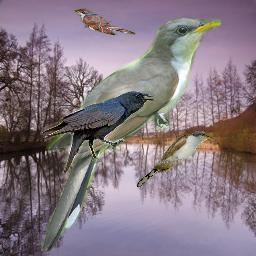Crow: (40, 91, 155, 175)
Cuckoo: (41, 18, 221, 251), (135, 130, 215, 188), (73, 7, 137, 38)
